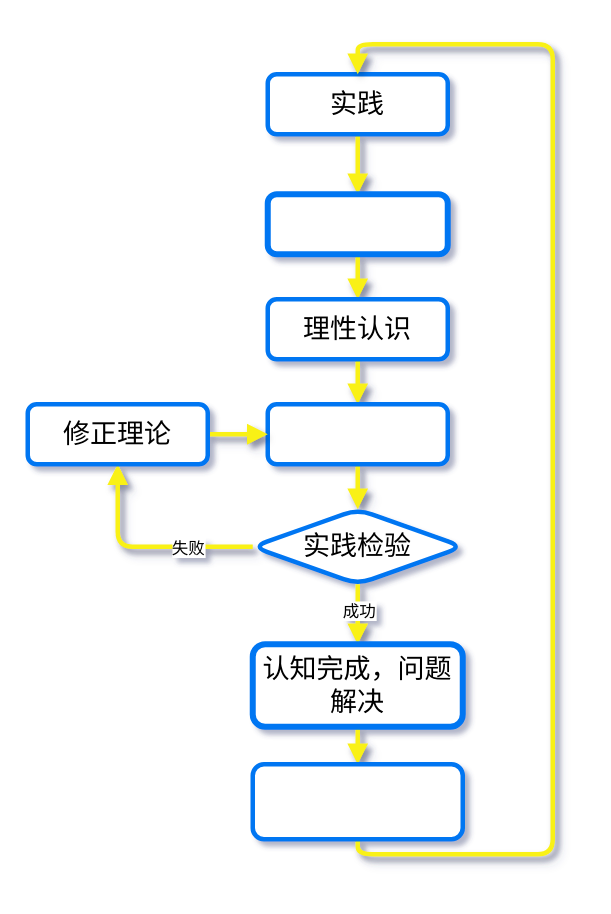
This 611x914 diagram has some shape labels left out. The centre of each missing label's shape, as x and y in pixels:
制定方案: point (357, 433)
感性认识: point (357, 223)
新阶段新矛盾新问题: point (357, 801)
